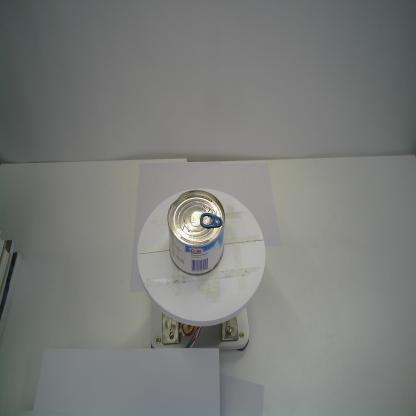Canned Food: (168, 190, 226, 277)
